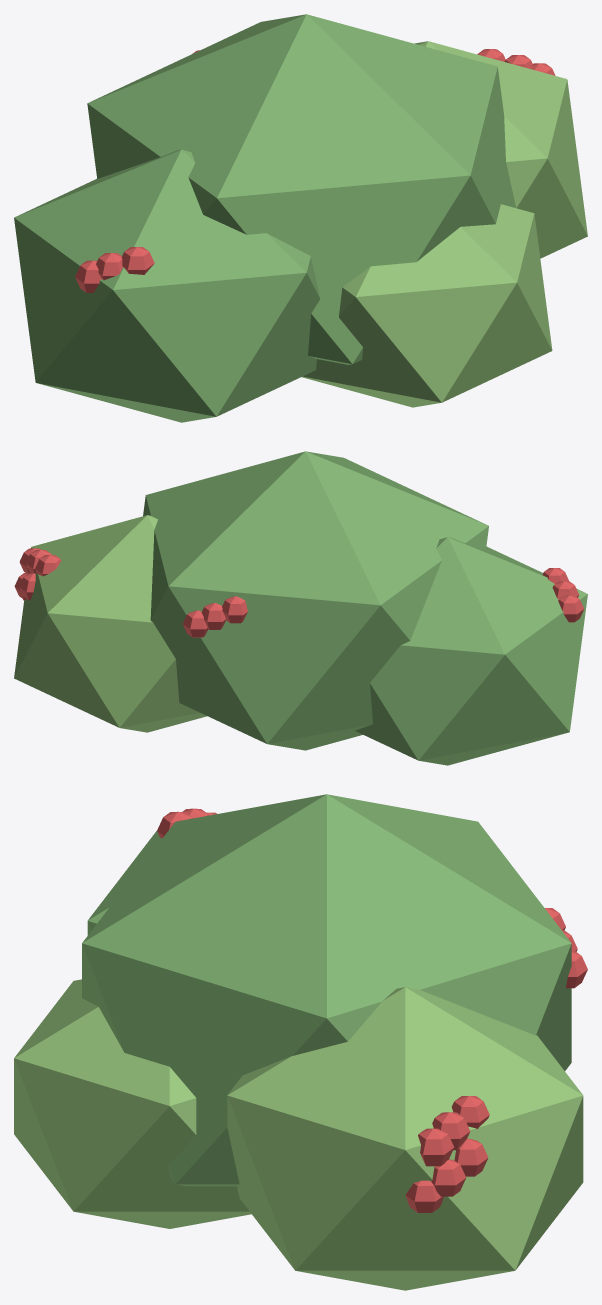
Rendered from bush_round.glb.
3 renders of one model, top to bottom at view 1: azimuth 30°, elevation 25°; view 2: azimuth 150°, elevation 25°; view 3: azimuth 270°, elevation 25°, orthographic. The views are drawn at different scales.
Parts seen in each view (by area): view 1: BushRound; view 2: BushRound; view 3: BushRound.
Part boxes in pixels (bbox=[...]): BushRound: bbox=[14, 14, 587, 422]; BushRound: bbox=[14, 451, 587, 765]; BushRound: bbox=[14, 794, 587, 1290].
Size of the model in its own units: 1.52 by 0.88 by 1.1.
